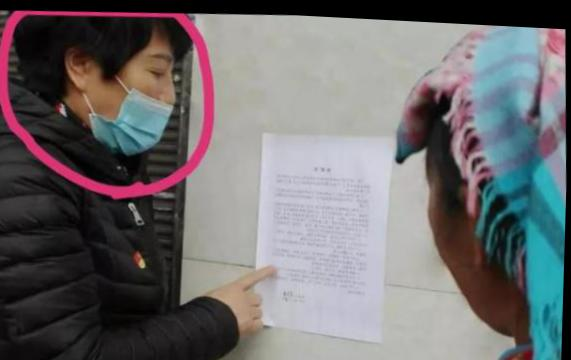WRONG: (107, 38, 183, 155)
